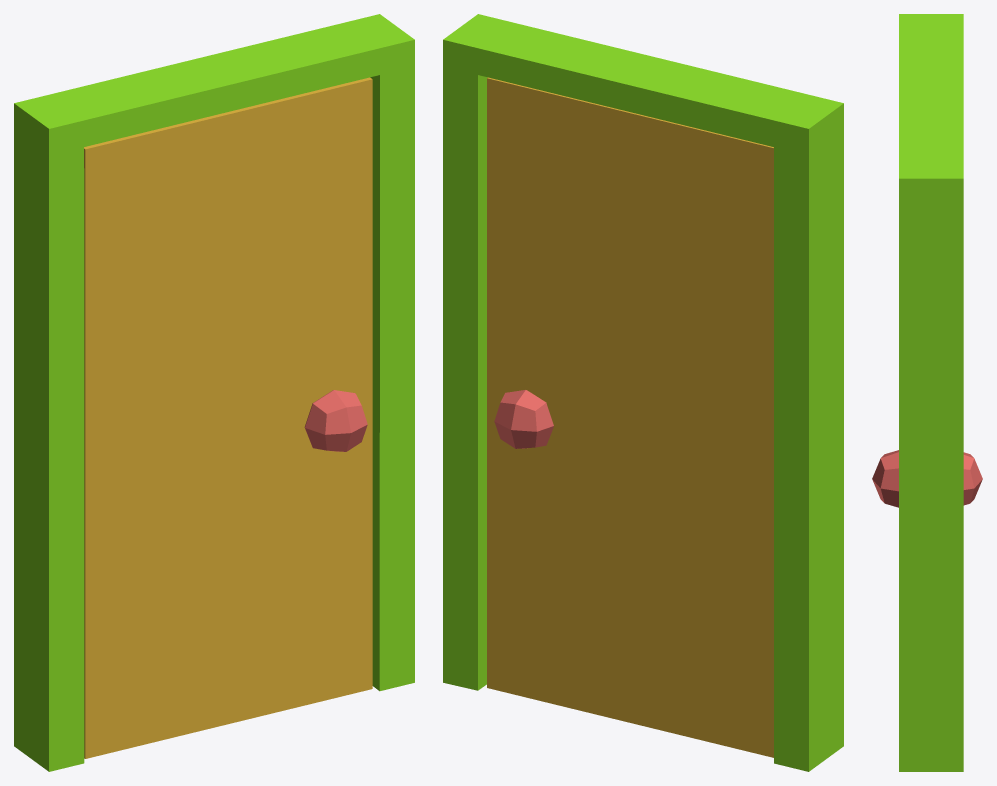
The model's file is puerta.fbx.
3 renders of one model, left to right at view 1: azimuth 30°, elevation 25°; view 2: azimuth 150°, elevation 25°; view 3: azimuth 270°, elevation 25°, orthographic. The views are drawn at different scales.
Parts seen in each view (by area): view 1: Puerta, MarcoPuerta; view 2: Puerta, MarcoPuerta; view 3: MarcoPuerta, Puerta.
Part boxes in pixels (x1=…): Puerta: x1=84, y1=77, x2=372, y2=758; MarcoPuerta: x1=14, y1=14, x2=414, y2=771; Puerta: x1=487, y1=77, x2=773, y2=757; MarcoPuerta: x1=443, y1=14, x2=843, y2=771; MarcoPuerta: x1=899, y1=14, x2=963, y2=771; Puerta: x1=872, y1=450, x2=982, y2=507.
Bounding box in the file's own units: 20.53 × 34.48 × 5.84.
